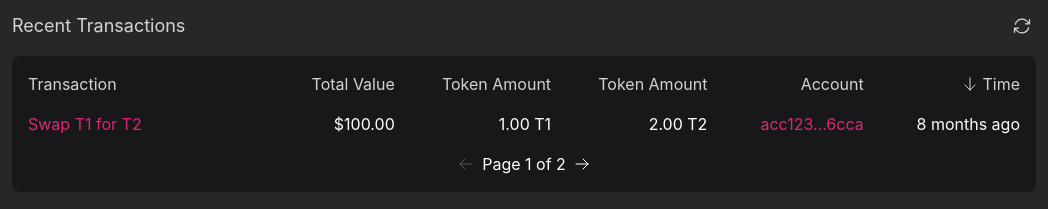
TransactionTable › Transaction table pagination works
The image size is (1048, 209).
Check: the text "Swap T1 for T2" is shown, box [28,114,142,134]
Click the icon with test id "transaction-right-arrow". click: (582, 164)
box: [574,156,590,172]
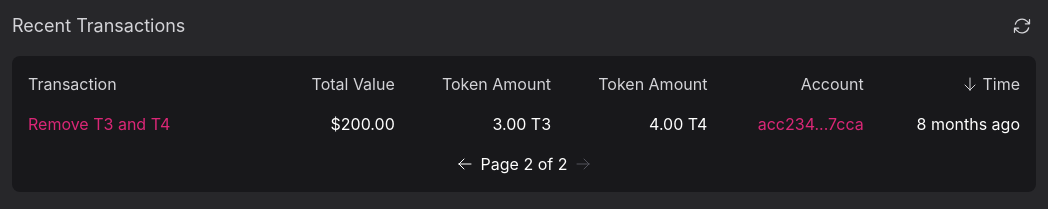
Check: the link "Swap T1 for T2" is gone
Check: the text "Remove T3 and T4" is shown, box [28,114,170,134]
